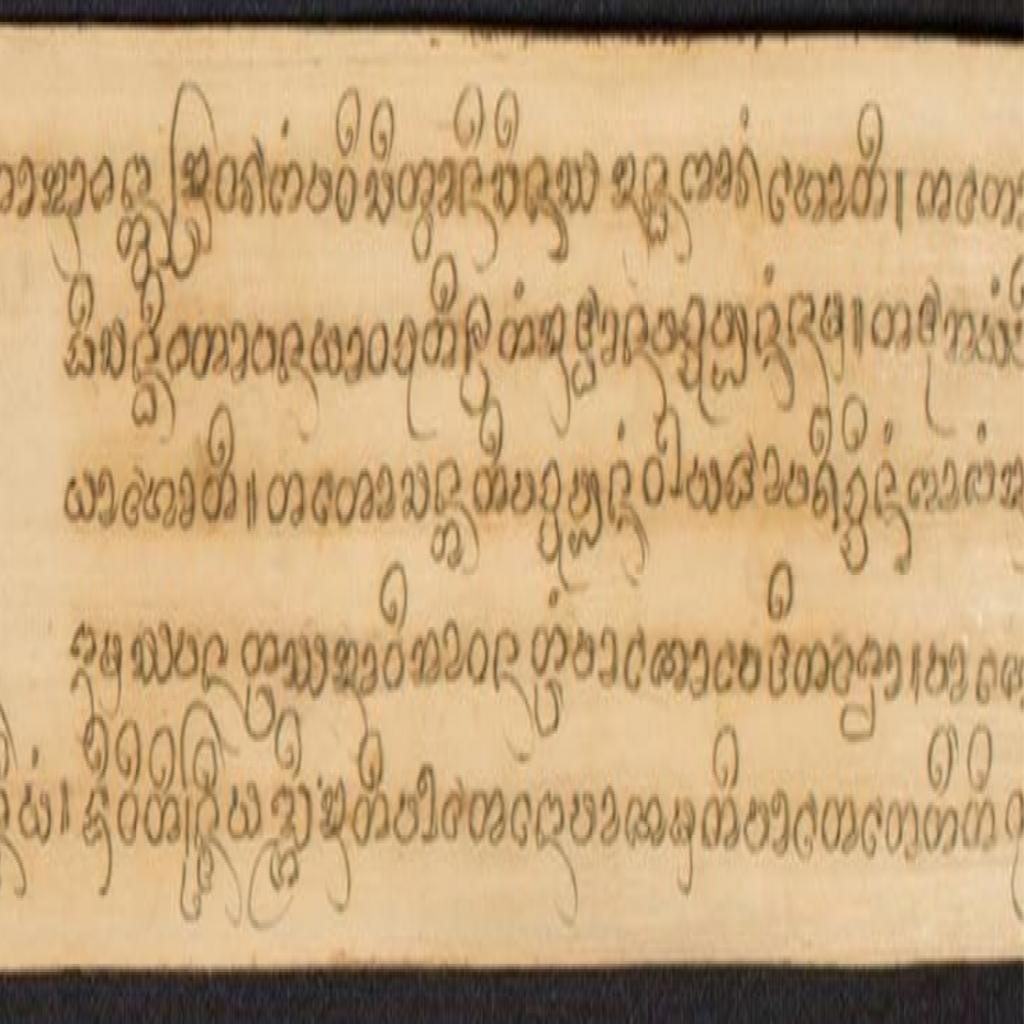LN019: (266, 467, 308, 539)
